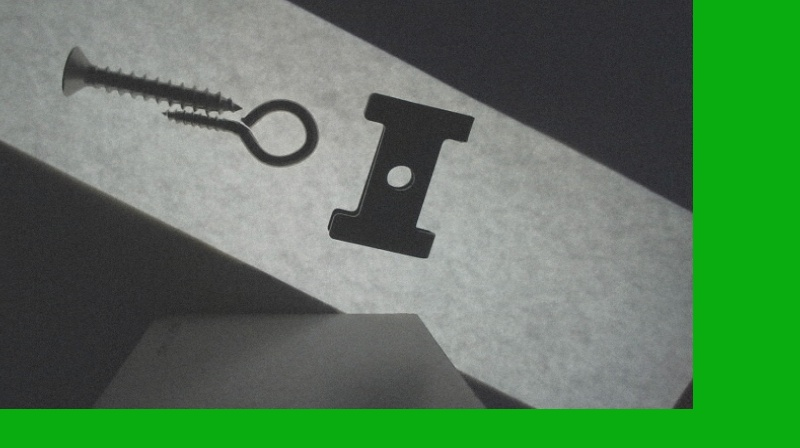O001: (159, 97, 320, 166)
O002: (326, 90, 475, 261)
S001: (57, 45, 242, 112)
